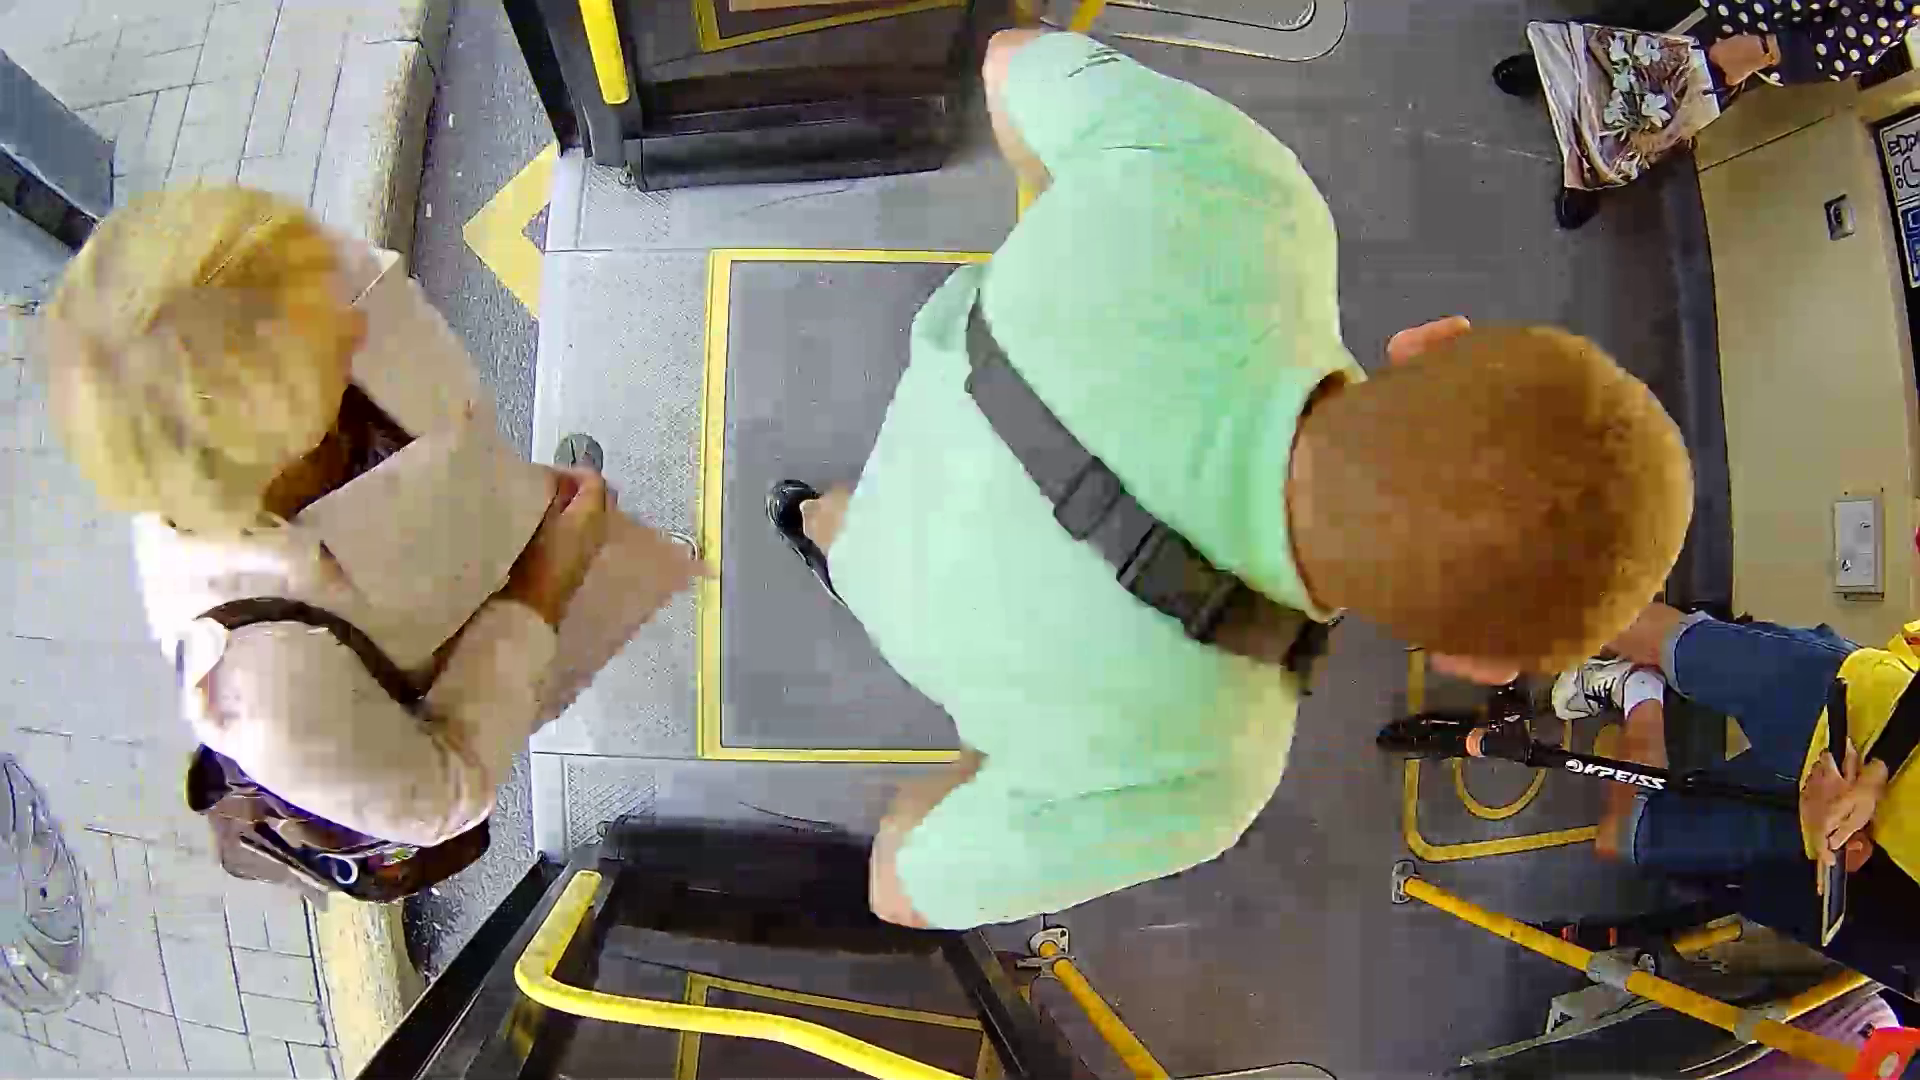person: (896, 56, 1691, 896), (65, 163, 674, 819)
